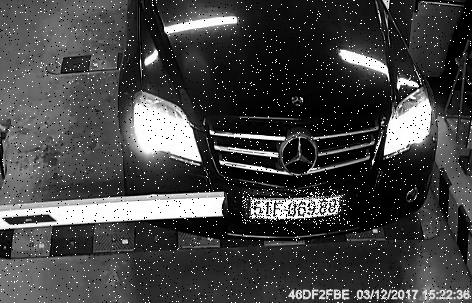License-plate: (244, 190, 352, 225)
